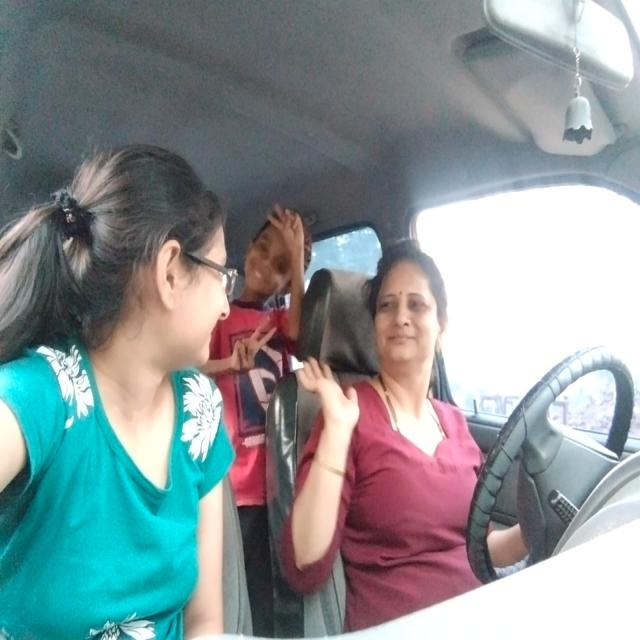LeftRight: (367, 239, 457, 394)
person: (109, 132, 246, 383), (250, 206, 310, 330)
